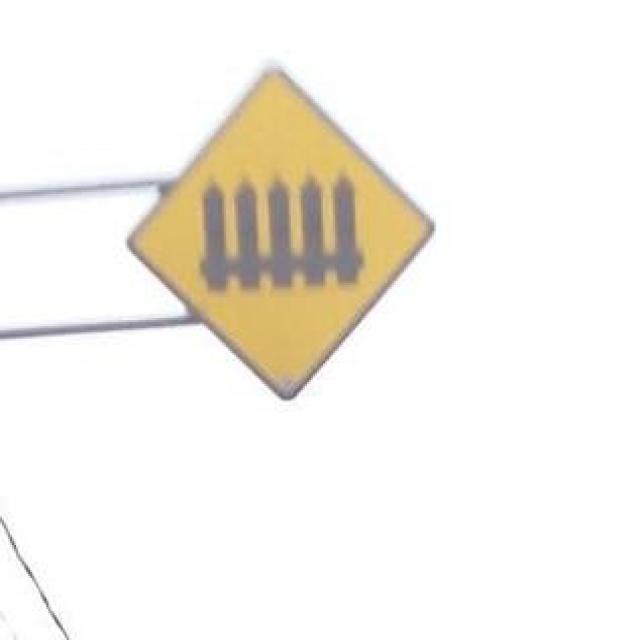traffic sign: (143, 77, 428, 395)
